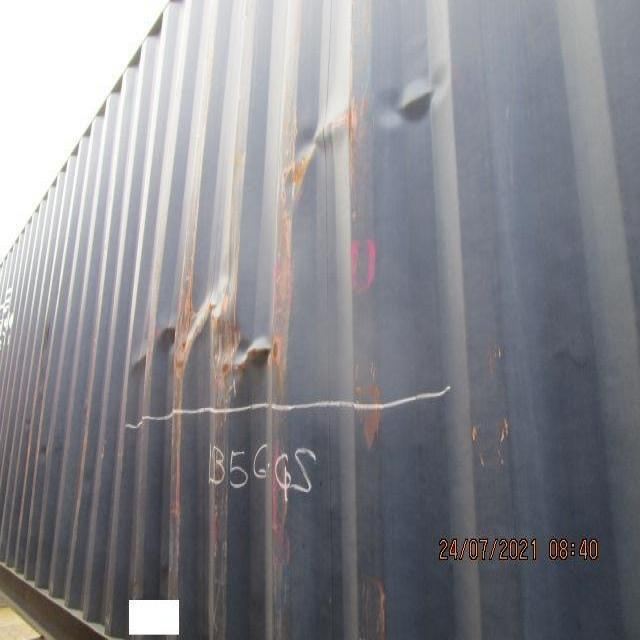dent: (122, 247, 359, 432), (275, 61, 459, 187)
